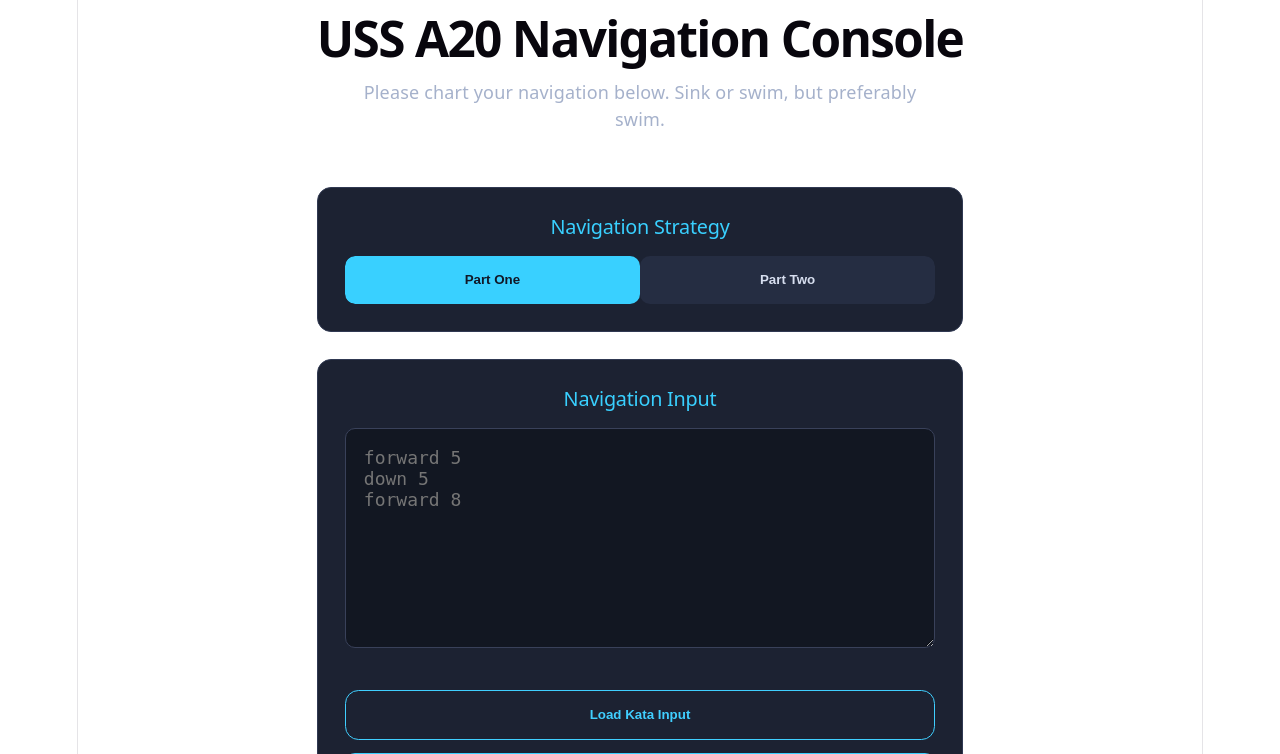
Test: NavigationSolver (integration) › solves the sample using the part two strategy
The image size is (1280, 754).
Step 1. Click the button "Part Two" → click(788, 280), box [640, 256, 935, 304]
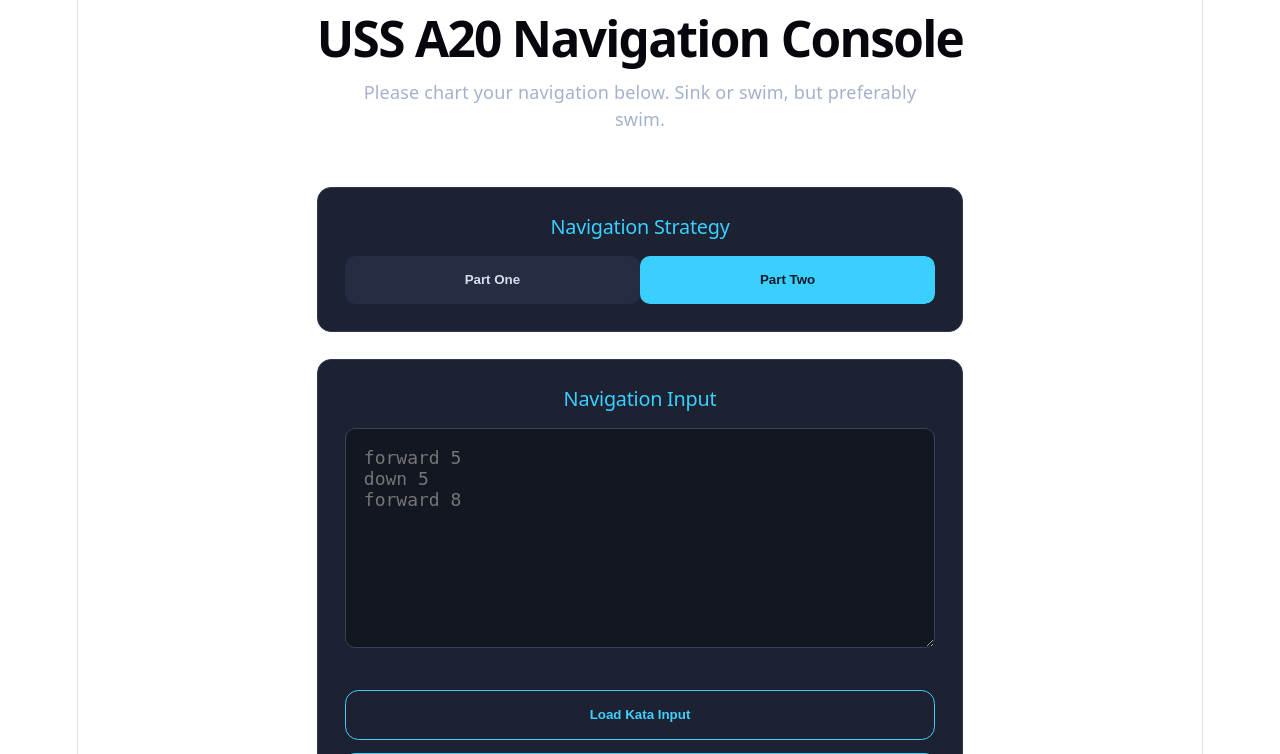
Step 2. Type "forward 5 down 5 forward 8 up 3 down 8 forward 2" into the text box → (640, 538), box [345, 428, 935, 648]
(page scrolled)
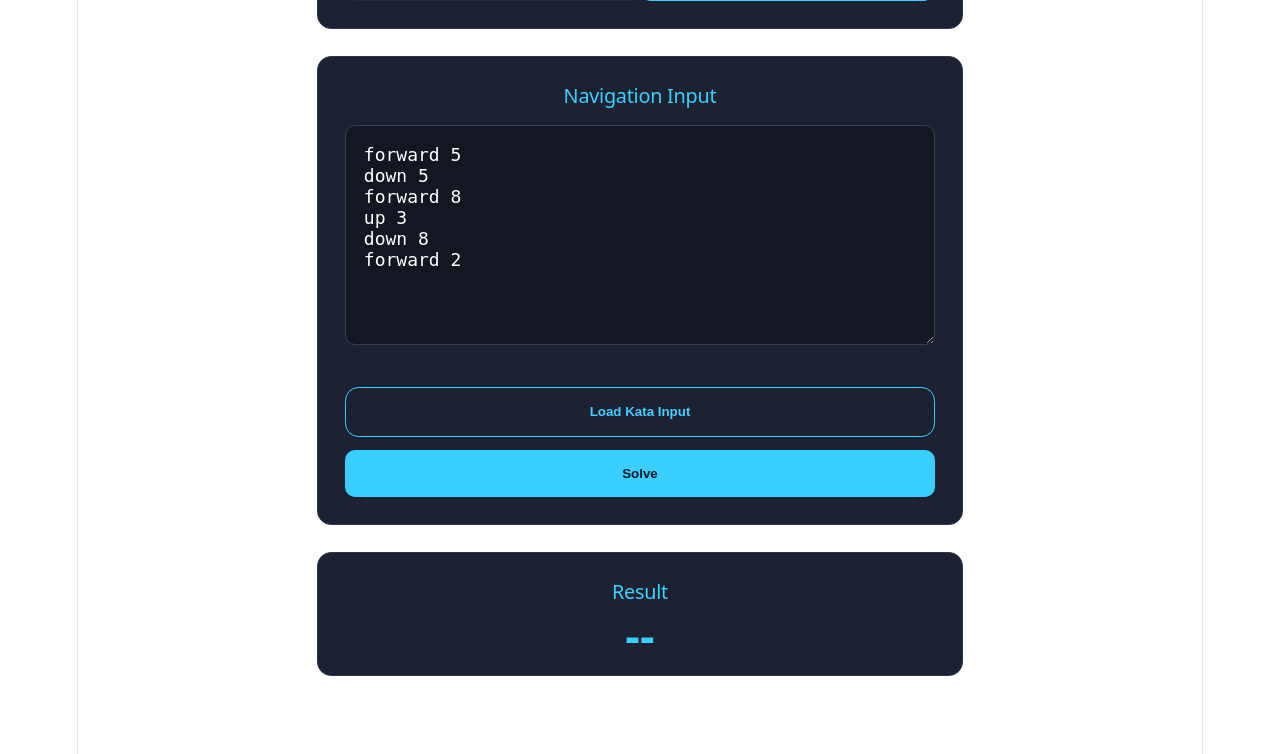
Step 3. Click the button "Solve" → click(640, 474), box [345, 450, 935, 497]
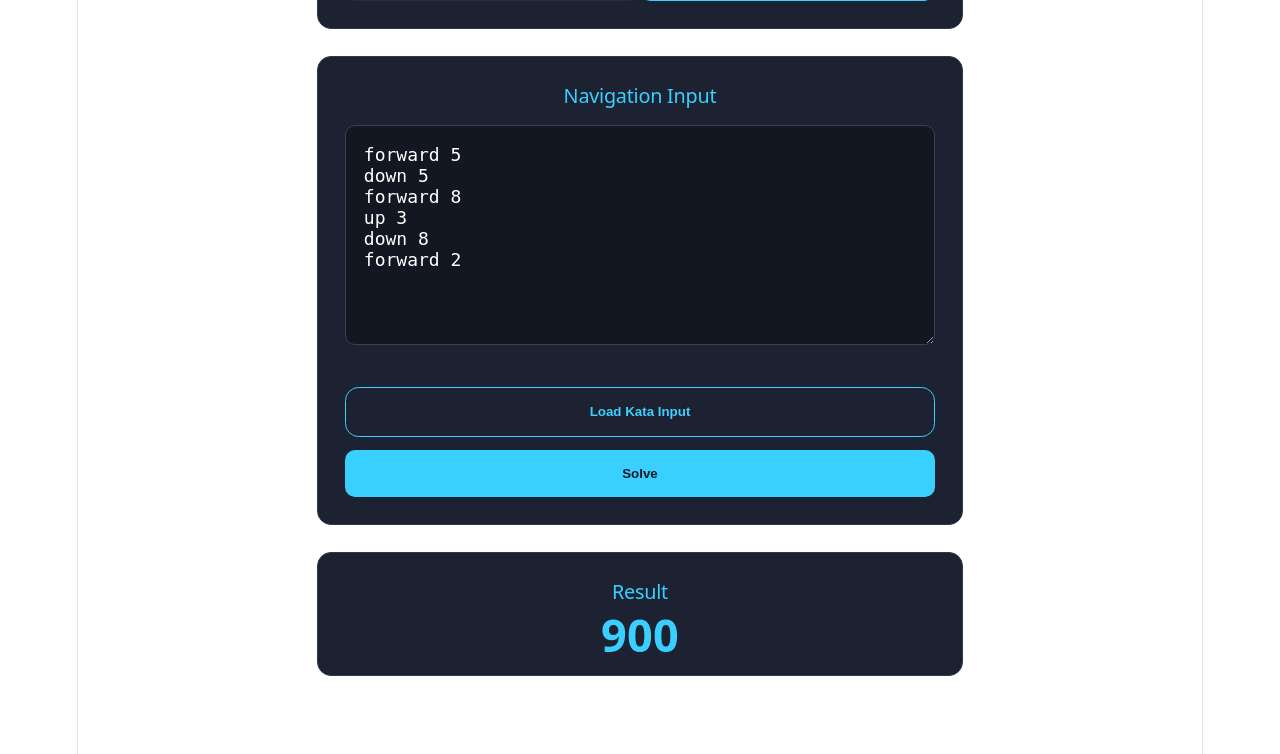
Expected: the text "900" is shown, [601, 604, 679, 665]
